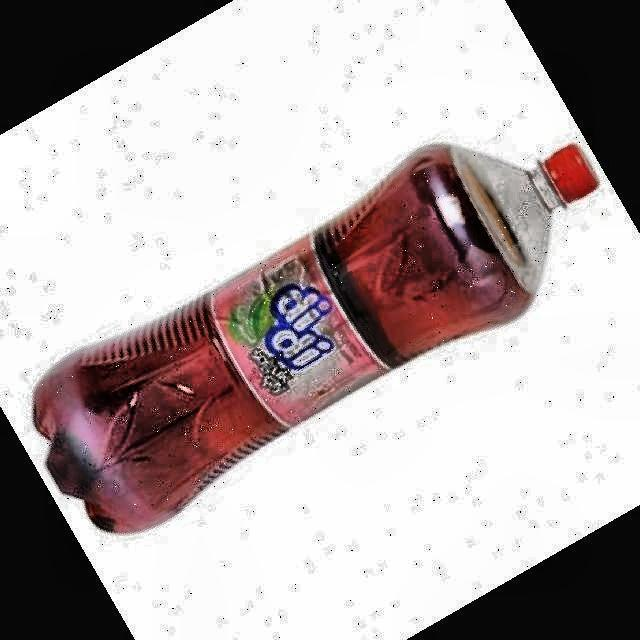plastic: (33, 144, 597, 532)
